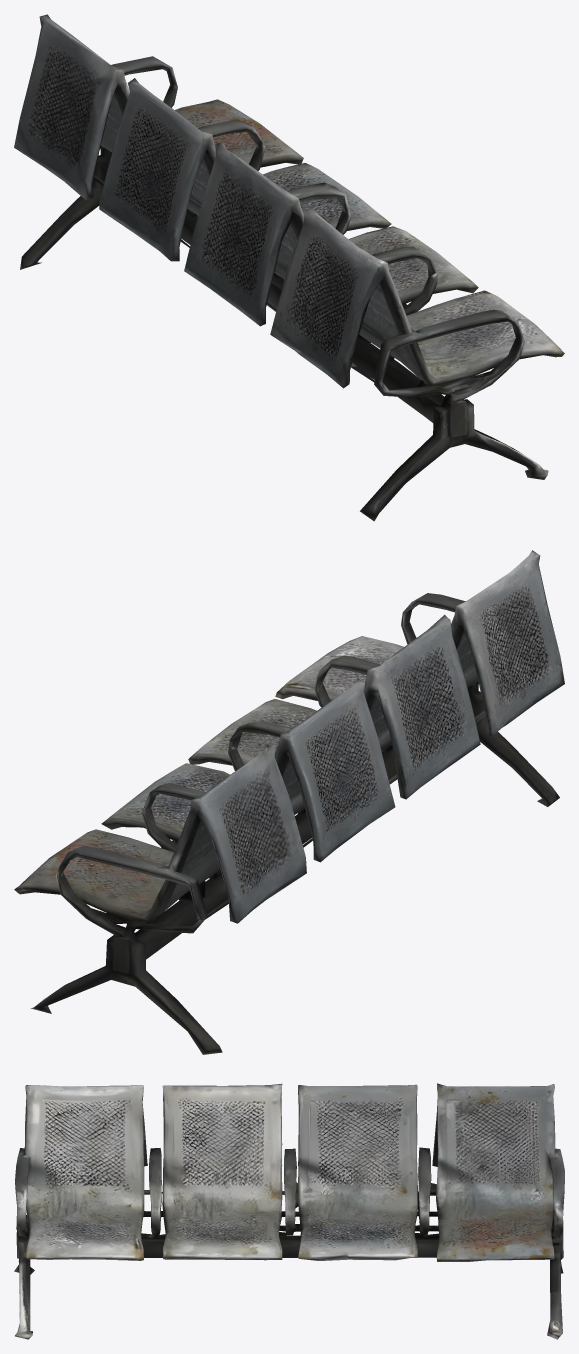
The model's file is ap_seats.glb.
3 views of the same model, one above another, from view 1: azimuth 30°, elevation 25°; view 2: azimuth 150°, elevation 25°; view 3: azimuth 270°, elevation 25° (orthographic). The views are drawn at different scales.
Parts seen in each view (by area): view 1: tripo_node_5adfc299-964d-4f54-9d5a-d40db78c684b; view 2: tripo_node_5adfc299-964d-4f54-9d5a-d40db78c684b; view 3: tripo_node_5adfc299-964d-4f54-9d5a-d40db78c684b.
Part boxes in pixels (x1,y1,x2,y2): tripo_node_5adfc299-964d-4f54-9d5a-d40db78c684b: [14, 14, 564, 521]; tripo_node_5adfc299-964d-4f54-9d5a-d40db78c684b: [14, 550, 564, 1054]; tripo_node_5adfc299-964d-4f54-9d5a-d40db78c684b: [14, 1083, 564, 1339].
Size of the model in its own units: 0.3599 by 0.388 by 1.
Materials: 1 (1 with a texture image).
